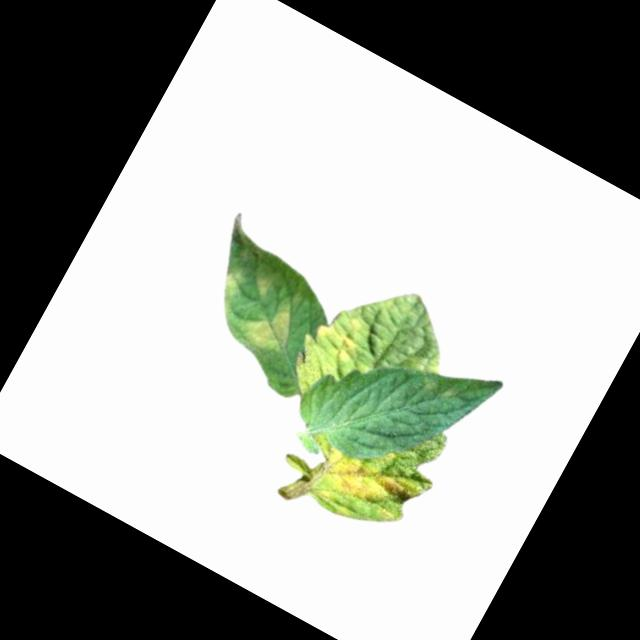Leaf_Mold: (282, 413, 436, 548), (238, 279, 309, 356), (305, 299, 374, 367)
